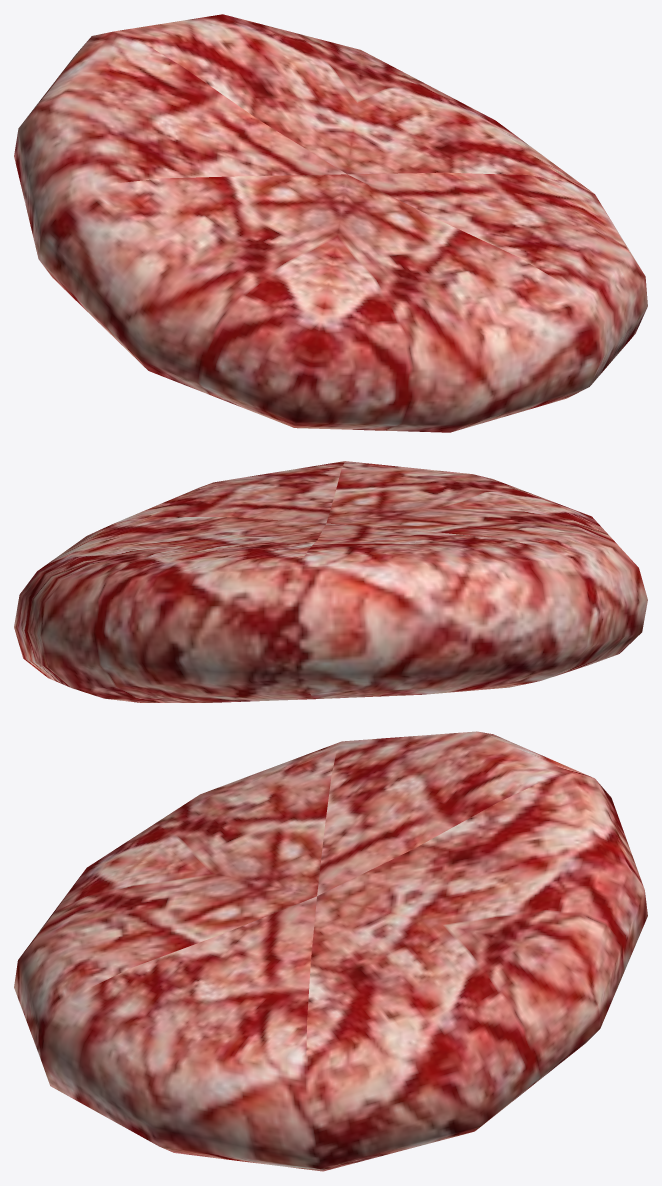
The model's file is burger_uncooked.fbx.
3 renders of one model, top to bottom at view 1: azimuth 30°, elevation 25°; view 2: azimuth 150°, elevation 25°; view 3: azimuth 270°, elevation 25°, orthographic. The views are drawn at different scales.
Parts seen in each view (by area): view 1: pBurger_Patty; view 2: pBurger_Patty; view 3: pBurger_Patty.
Part boxes in pixels (<box>): pBurger_Patty: <box>14,14,647,432</box>; pBurger_Patty: <box>14,461,647,702</box>; pBurger_Patty: <box>14,731,647,1171</box>.
Bounding box in the file's own units: 1.75 × 0.7663 × 1.8.
1 material, 1 textured.
